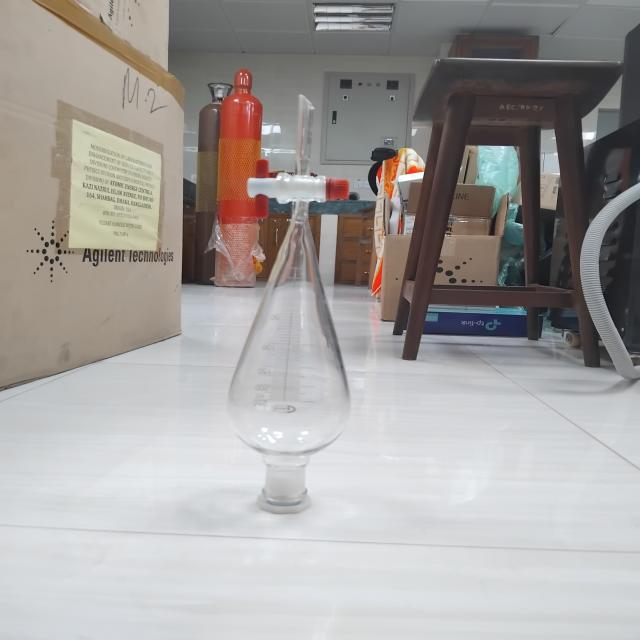Separating_Funnel: (200, 75, 390, 535)
